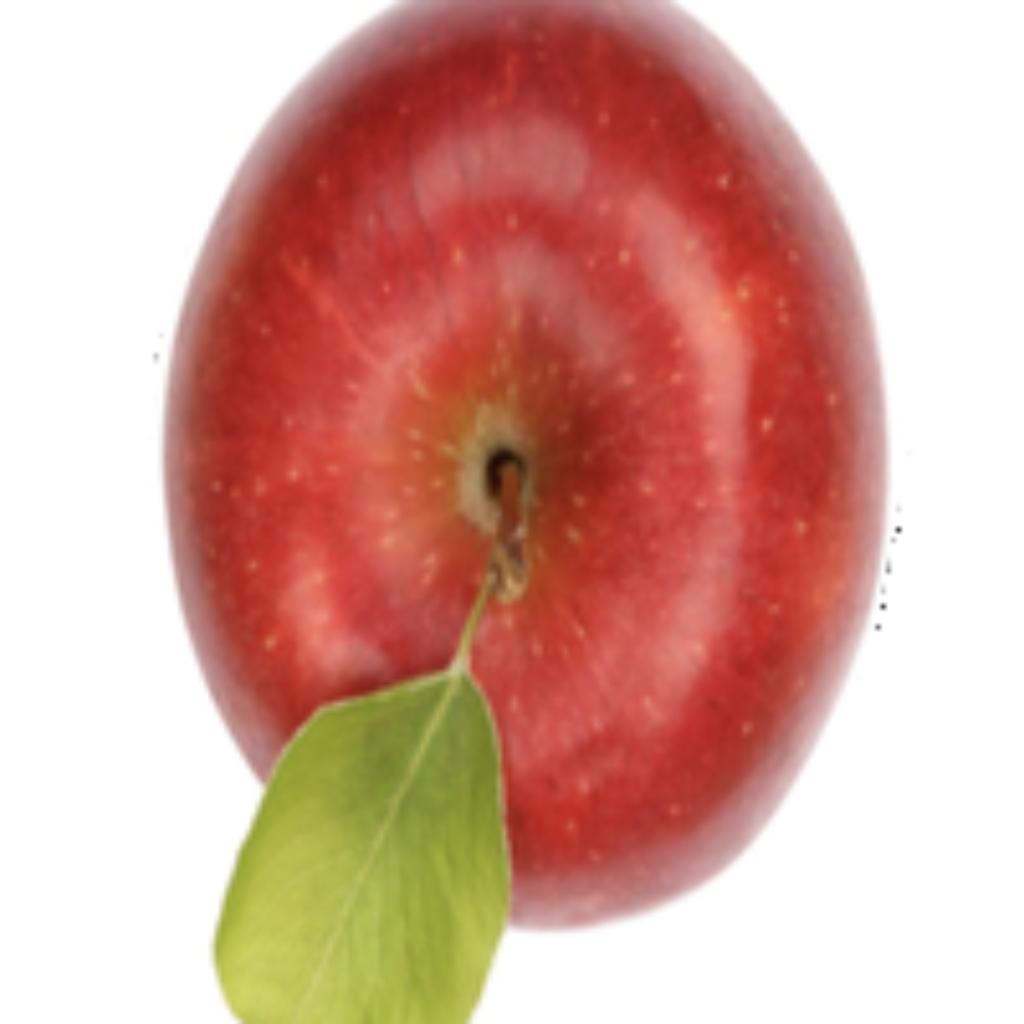apple: (148, 0, 901, 1019)
